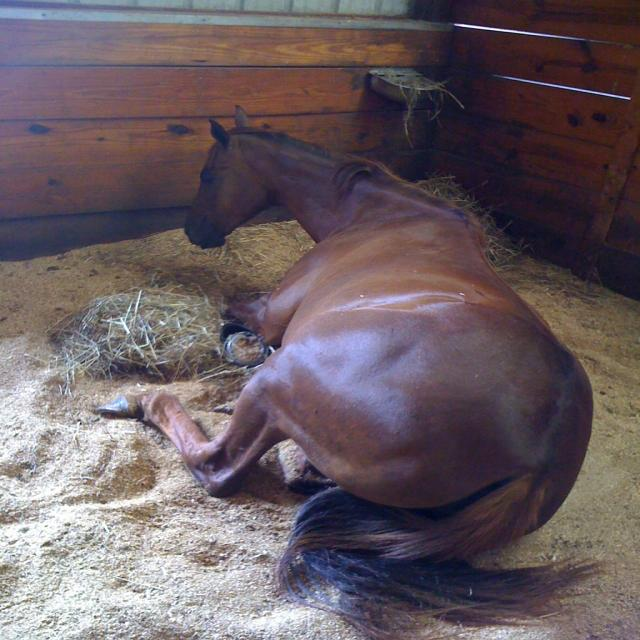Horse: (88, 103, 612, 640)
